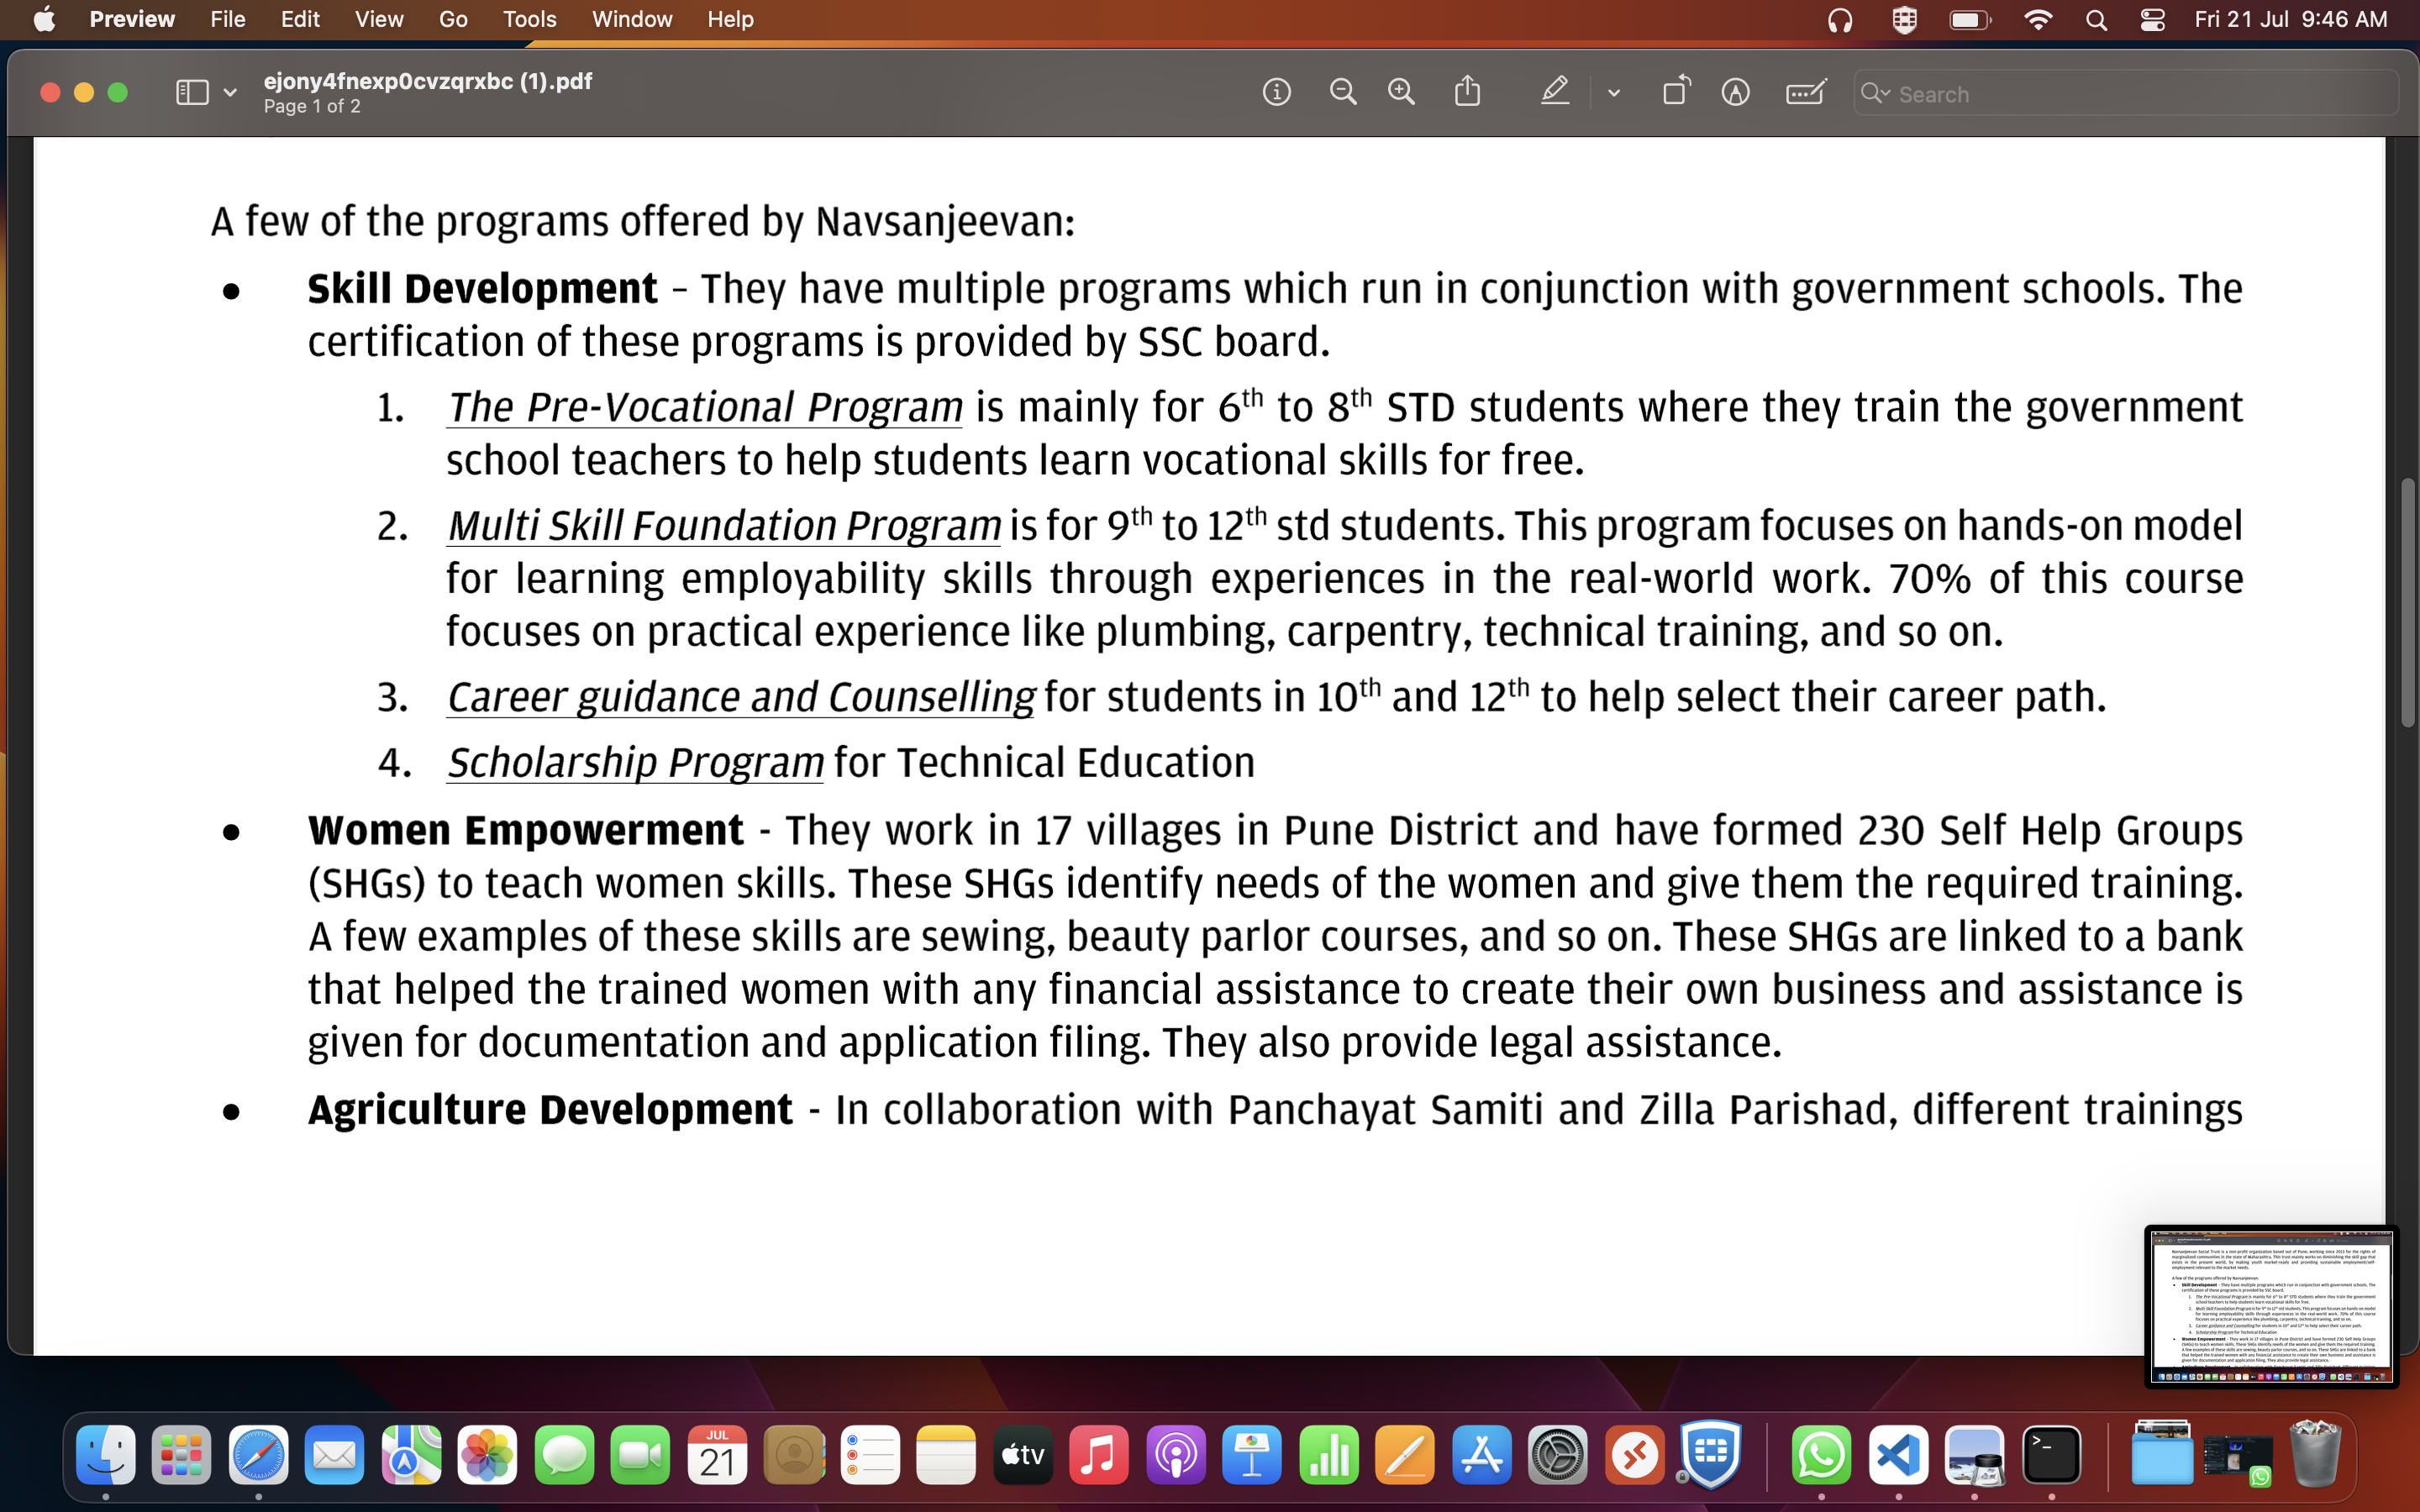Paragraph: (272, 793, 2270, 1080), (422, 503, 2263, 662), (284, 251, 2270, 378), (415, 375, 2267, 493), (294, 1087, 2270, 1155), (425, 669, 2133, 726), (199, 192, 1112, 254), (429, 737, 1296, 793)
